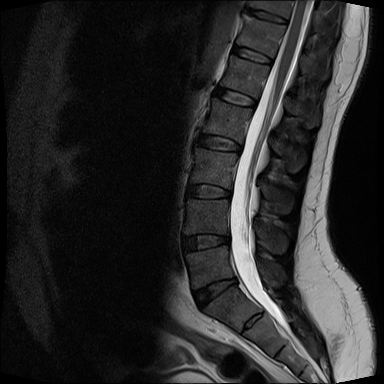Normal IVD: (181, 268, 242, 316), (187, 127, 246, 158), (172, 230, 233, 259), (211, 80, 260, 112), (182, 176, 234, 203), (228, 42, 275, 70), (240, 6, 291, 28)
